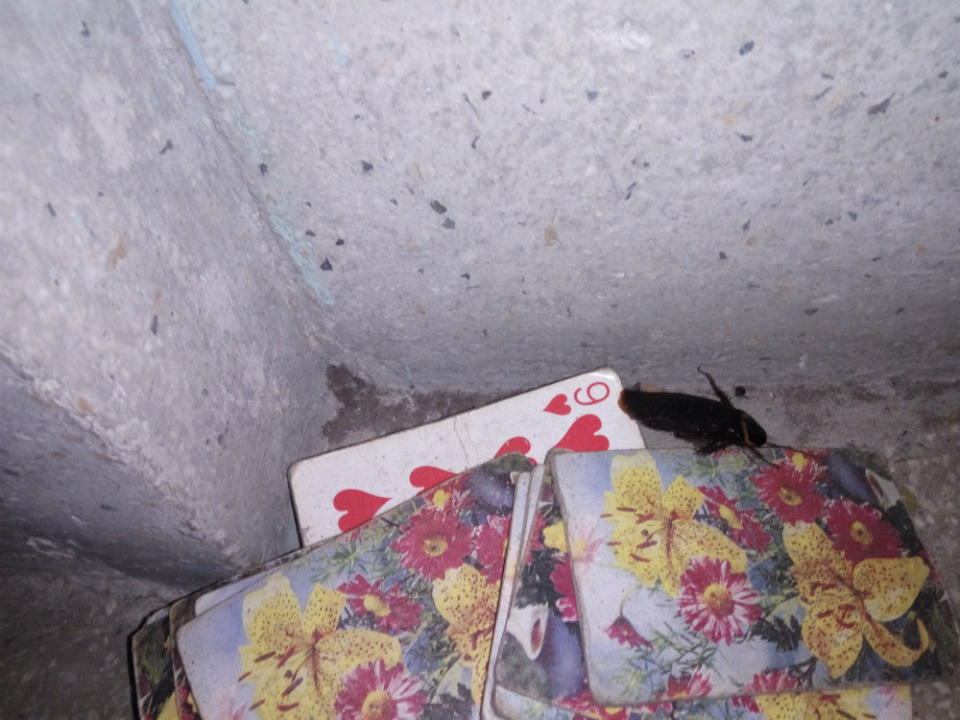cockroach: (550, 341, 835, 492)
